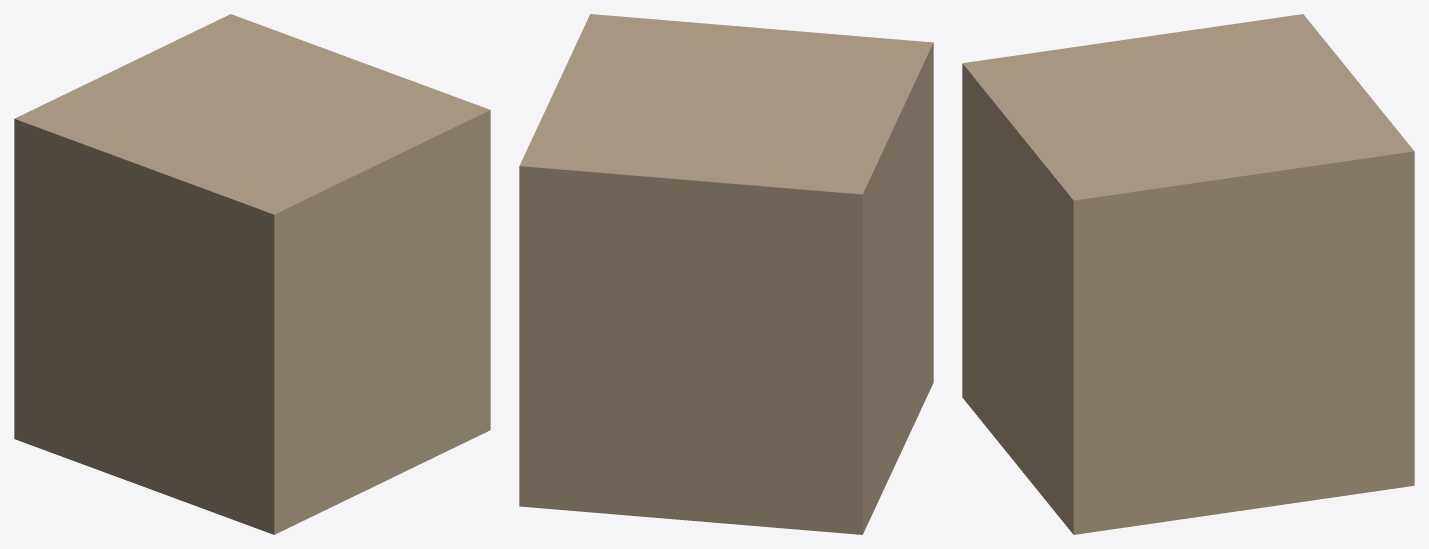
Rendered from bld_108162175.dae.
3 renders of one model, left to right at view 1: azimuth 30°, elevation 25°; view 2: azimuth 150°, elevation 25°; view 3: azimuth 270°, elevation 25°, orthographic. The views are drawn at different scales.
Visible parts, largest first — view 1: bld_108162175; view 2: bld_108162175; view 3: bld_108162175.
Boxes of the visible parts, left/top/right/bottom form: bld_108162175: left=14, top=14, right=490, bottom=534; bld_108162175: left=519, top=14, right=933, bottom=534; bld_108162175: left=962, top=14, right=1414, bottom=534.
Size of the model in its own units: 9.57 by 9.8 by 8.
